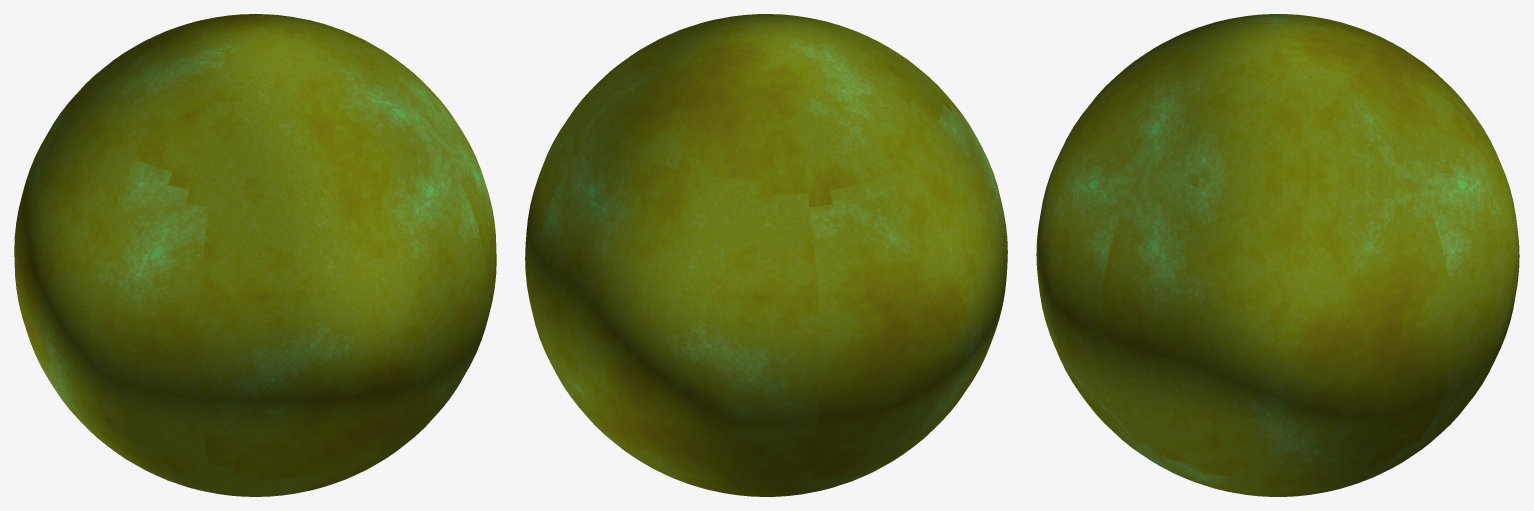
Rendered from planet_blue.fbx.
The picture shows the model from 3 angles, left to right: view 1: azimuth 30°, elevation 25°; view 2: azimuth 150°, elevation 25°; view 3: azimuth 270°, elevation 25°; orthographic projection.
Visible parts, largest first — view 1: moon; view 2: moon; view 3: moon.
Part boxes in pixels (x1=…): moon: x1=14, y1=14, x2=496, y2=496; moon: x1=525, y1=14, x2=1007, y2=496; moon: x1=1036, y1=14, x2=1519, y2=496.
Bounding box in the file's own units: 758 × 759 × 759.
Materials: 1 (1 with a texture image).
